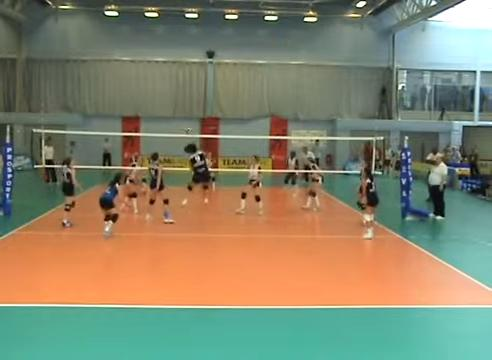Attack: (177, 138, 213, 210)
Player: (146, 152, 173, 223), (99, 173, 122, 236), (62, 157, 80, 228), (362, 166, 378, 238), (122, 153, 141, 213), (302, 159, 322, 210), (248, 155, 262, 214), (284, 151, 298, 191), (301, 146, 315, 183), (356, 163, 365, 210), (207, 152, 215, 190)
ball: (183, 126, 193, 136)
